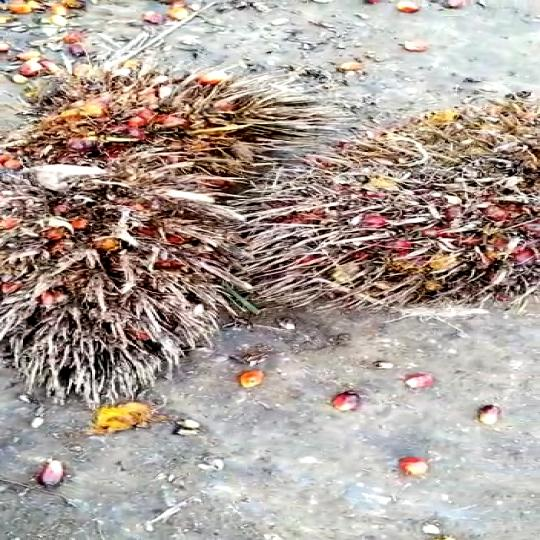terlalu masak: (0, 163, 255, 420), (238, 102, 540, 306), (0, 72, 313, 182)
